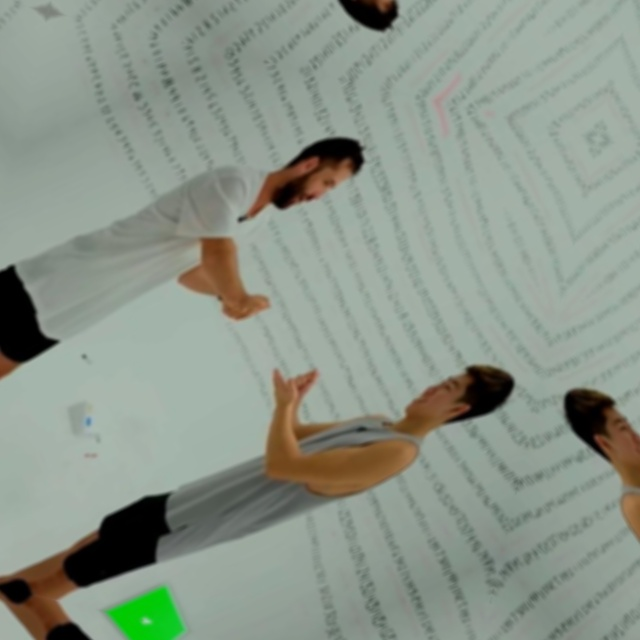Rock: (218, 277, 279, 335), (284, 360, 329, 404)
